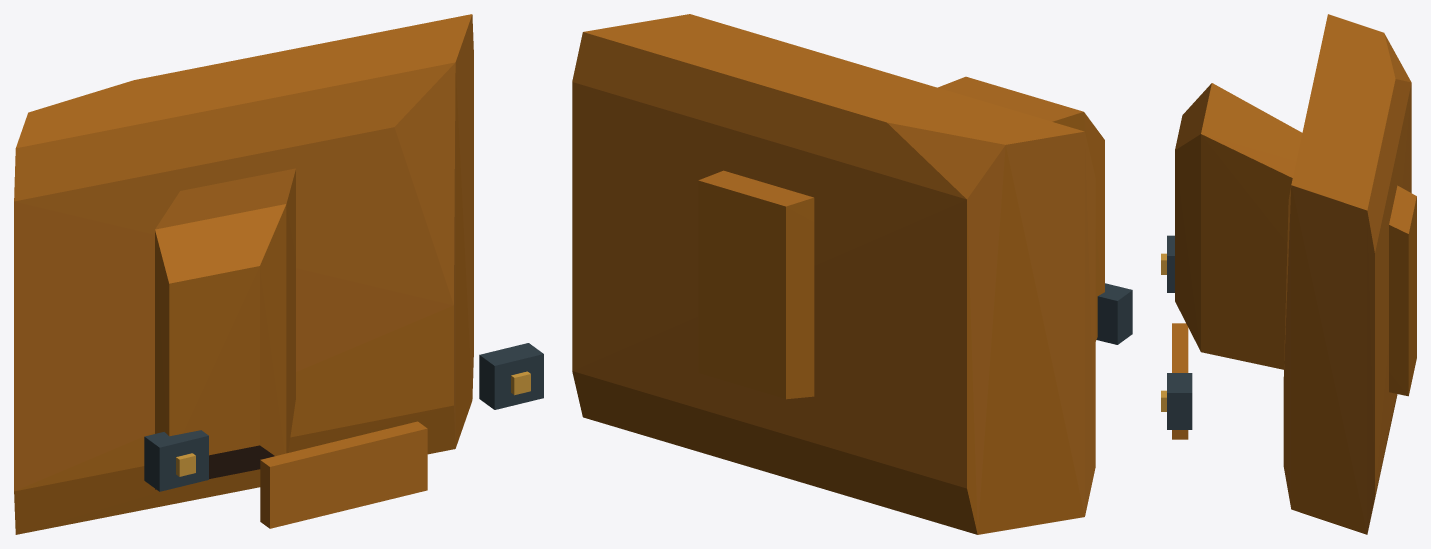
Rendered from tool-bench-butter.glb.
3 views of the same model, side by side, from view 1: azimuth 30°, elevation 25°; view 2: azimuth 150°, elevation 25°; view 3: azimuth 270°, elevation 25° (orthographic). The views are drawn at different scales.
Parts seen in each view (by area): view 1: tool-bench-butter; view 2: tool-bench-butter; view 3: tool-bench-butter.
Boxes of the visible parts, x1=… form: tool-bench-butter: x1=14, y1=14, x2=543, y2=534; tool-bench-butter: x1=572, y1=14, x2=1132, y2=534; tool-bench-butter: x1=1161, y1=14, x2=1416, y2=534.
Size of the model in its own units: 1.4 by 1.05 by 0.7503.
